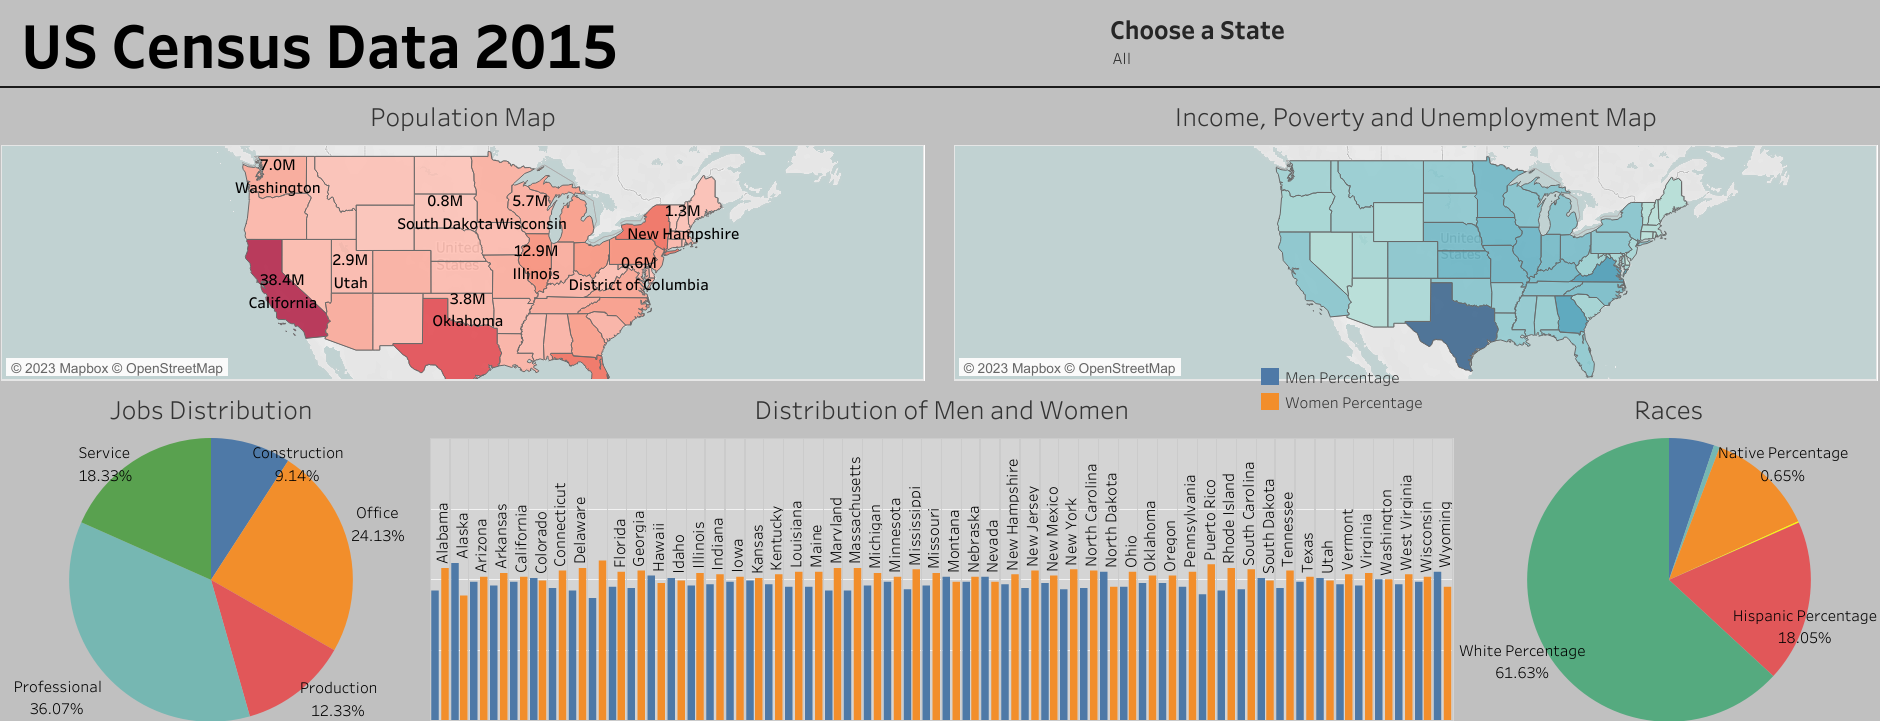

What the dashboard file says about the page in this screenshot:
{"tool":"tableau","page":{"name":"US Census Data 2015","canvas":[1000,1000],"units":"permille","ordinal":0},"visuals":[{"type":"filter","title":"Population Map","param":"[federated.1qroa4w05h1xog19742za1iqsvga].[none:State:nk]","box":[590.2,14,112,104]},{"type":"text","box":[9.1,16.4,394.1,84.6]},{"type":"blank","box":[0.6,119.2,1000,2.5]},{"type":"worksheet","title":"Population Map","mark":"Automatic","box":[0.6,126.7,491.4,401.5]},{"type":"worksheet","title":"Income, Poverty and Unemployment Map","mark":"Automatic","box":[506.8,126.7,491.4,401.5]},{"type":"legend","title":"Distribution of Men and Women across states","param":"[federated.1qroa4w05h1xog19742za1iqsvga].[:Measure Names]","box":[668.3,503.1,101.4,80.3]},{"type":"worksheet","title":"Jobs Distribution","mark":"Pie","box":[0.6,530.7,223.6,466.8]},{"type":"worksheet","title":"Distribution of Men and Women across states","mark":"Automatic","cols":["State"],"box":[228.5,530.7,544.2,466.8]},{"type":"worksheet","title":"Races","mark":"Pie","box":[775.2,530.7,223.6,466.8]}]}

Visuals, with their boxes on the dashboard's canvas, which has no fixed pixel size, in thousandths of its width and height (x1, y1, x2, y2). These are canvas units, not pixel positions in the 1880x721 screenshot, which may show the page scaled, cropped or inside an application window:
"Population Map" filter: bbox=[590, 14, 702, 118]
text: bbox=[9, 16, 403, 101]
blank: bbox=[1, 119, 1001, 122]
"Population Map" worksheet: bbox=[1, 127, 492, 528]
"Income, Poverty and Unemployment Map" worksheet: bbox=[507, 127, 998, 528]
"Distribution of Men and Women across states" legend: bbox=[668, 503, 770, 583]
"Jobs Distribution" worksheet (Pie marks): bbox=[1, 531, 224, 998]
"Distribution of Men and Women across states" worksheet: bbox=[228, 531, 773, 998]
"Races" worksheet (Pie marks): bbox=[775, 531, 999, 998]
